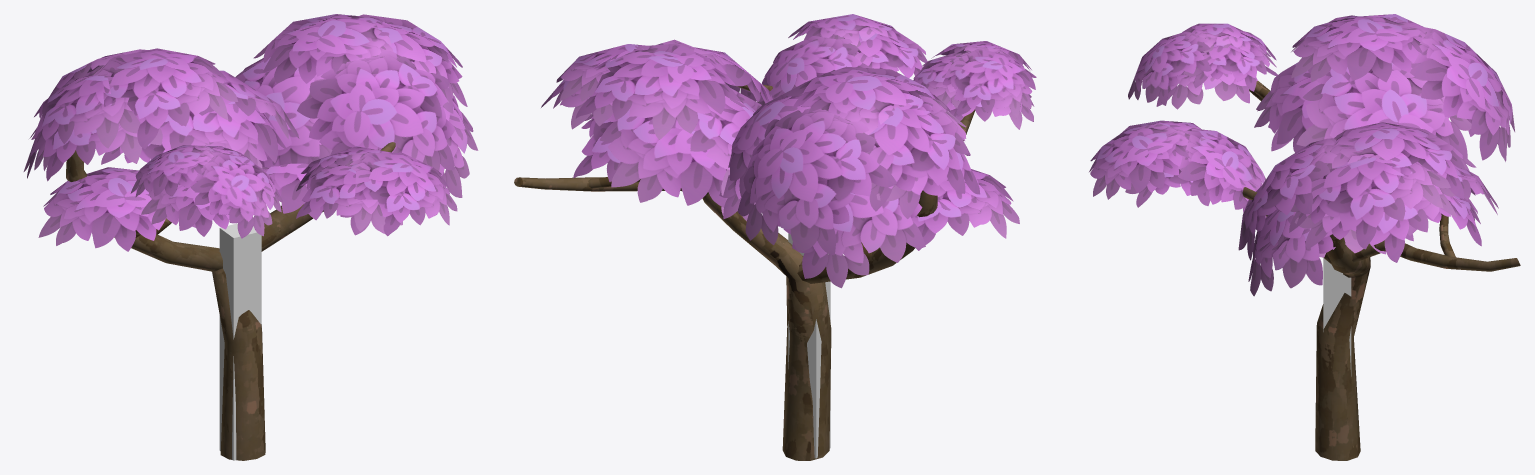
Rendered from tree_purple_1.glb.
3 renders of one model, left to right at view 1: azimuth 30°, elevation 25°; view 2: azimuth 150°, elevation 25°; view 3: azimuth 270°, elevation 25°, orthographic. The views are drawn at different scales.
Visible parts, largest first — view 1: Tree_4, Cube; view 2: Tree_4, Cube; view 3: Tree_4, Cube.
Part boxes in pixels (x1=…): Tree_4: x1=23, y1=14, x2=478, y2=460; Cube: x1=219, y1=223, x2=261, y2=460; Tree_4: x1=514, y1=14, x2=1036, y2=460; Cube: x1=788, y1=233, x2=830, y2=458; Tree_4: x1=1089, y1=14, x2=1520, y2=460; Cube: x1=1323, y1=258, x2=1351, y2=376.
Bounding box in the file's own units: 8.08 × 6.88 × 7.04.
Materials: 2 (2 with a texture image).
